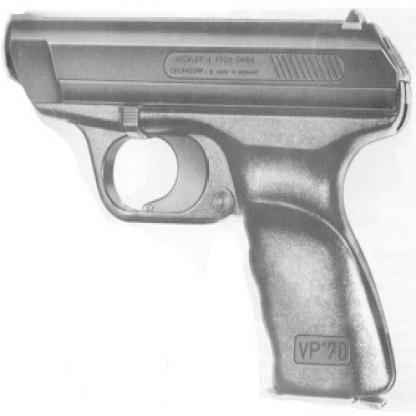Guns: (2, 5, 415, 414)
